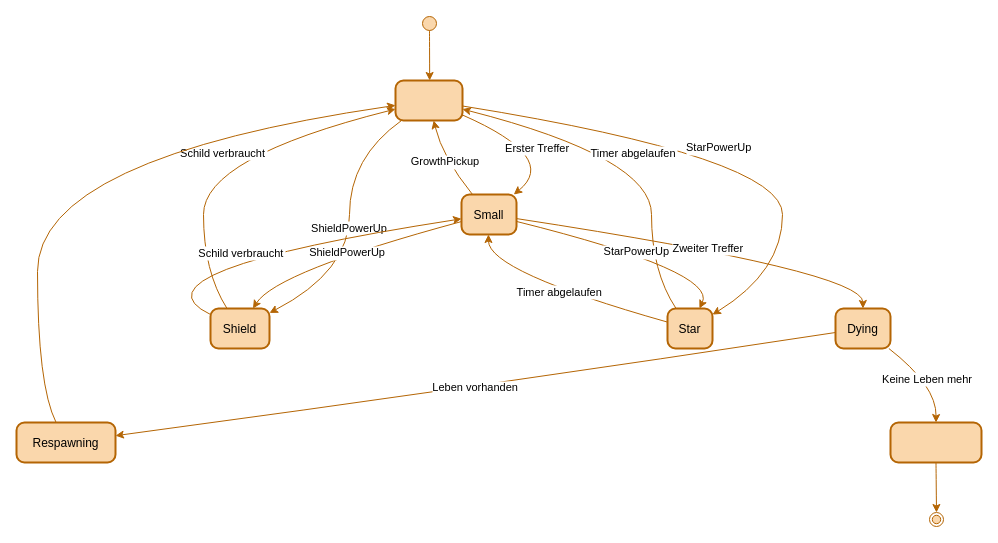
This 998x543 diagram has some shape labels left out. Each missing label, with the box of its shape:
GameOver: (889, 421, 982, 463)
Normal: (394, 79, 463, 121)
